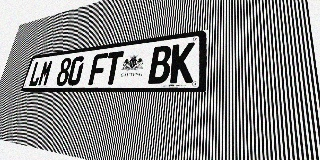0: (66, 56, 85, 86)
8: (55, 57, 73, 86)
B: (148, 45, 172, 84)
F: (88, 53, 108, 85)
K: (169, 42, 195, 83)
L: (28, 61, 44, 86)
M: (37, 59, 54, 86)
T: (103, 51, 124, 85)
